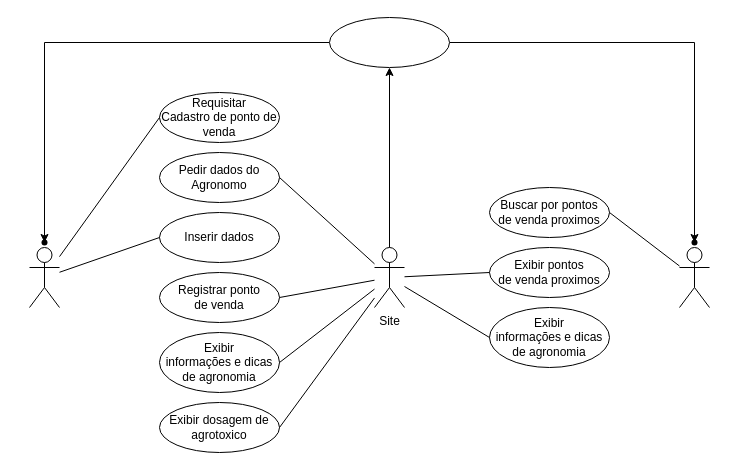
This 732x470 diagram has some shape labels left out. The centre of each missing label's shape, as x and y in pixels:
Agronomo: [44,277]
Cliente: [694,277]
Escolher se é agronomo ou cliente: [389,42]
